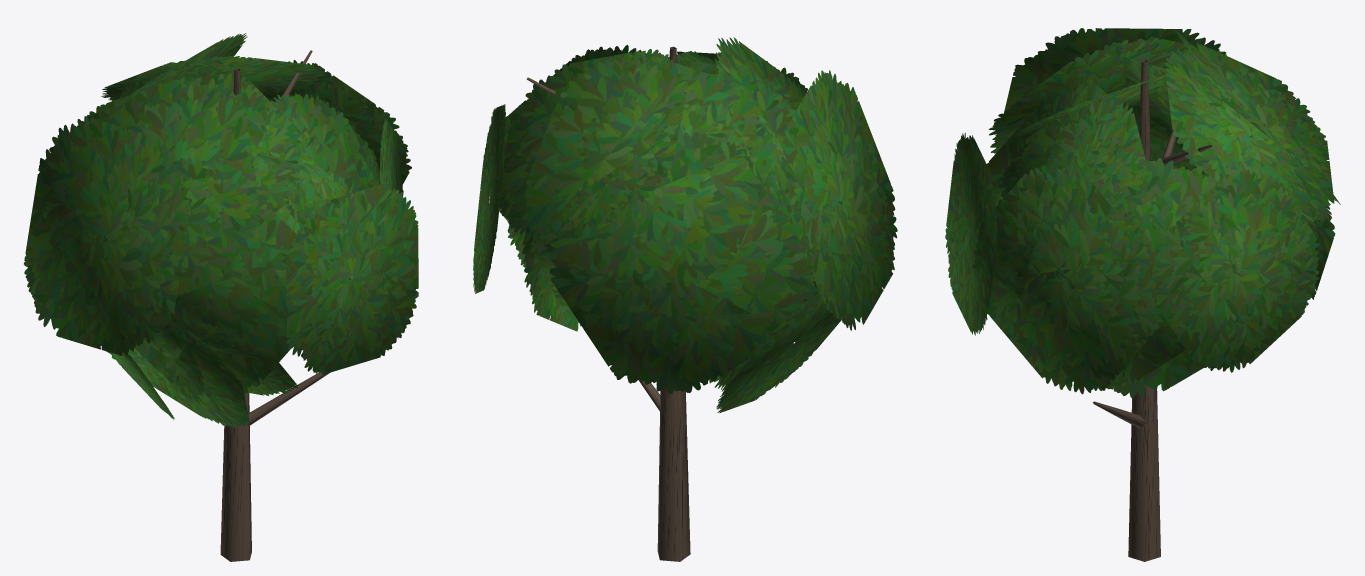
The model's file is Chestnut_LOD1.fbx.
3 views of the same model, side by side, from view 1: azimuth 30°, elevation 25°; view 2: azimuth 150°, elevation 25°; view 3: azimuth 270°, elevation 25° (orthographic). The views are drawn at different scales.
Visible parts, largest first — view 1: Chestnut_LOD1; view 2: Chestnut_LOD1; view 3: Chestnut_LOD1.
Part boxes in pixels (x1,y1,x2,y2): Chestnut_LOD1: (24,33,418,561); Chestnut_LOD1: (473,37,897,561); Chestnut_LOD1: (945,28,1340,561).
Size of the model in its own units: 12.98 by 16.67 by 11.93.
Materials: 1 (1 with a texture image).
